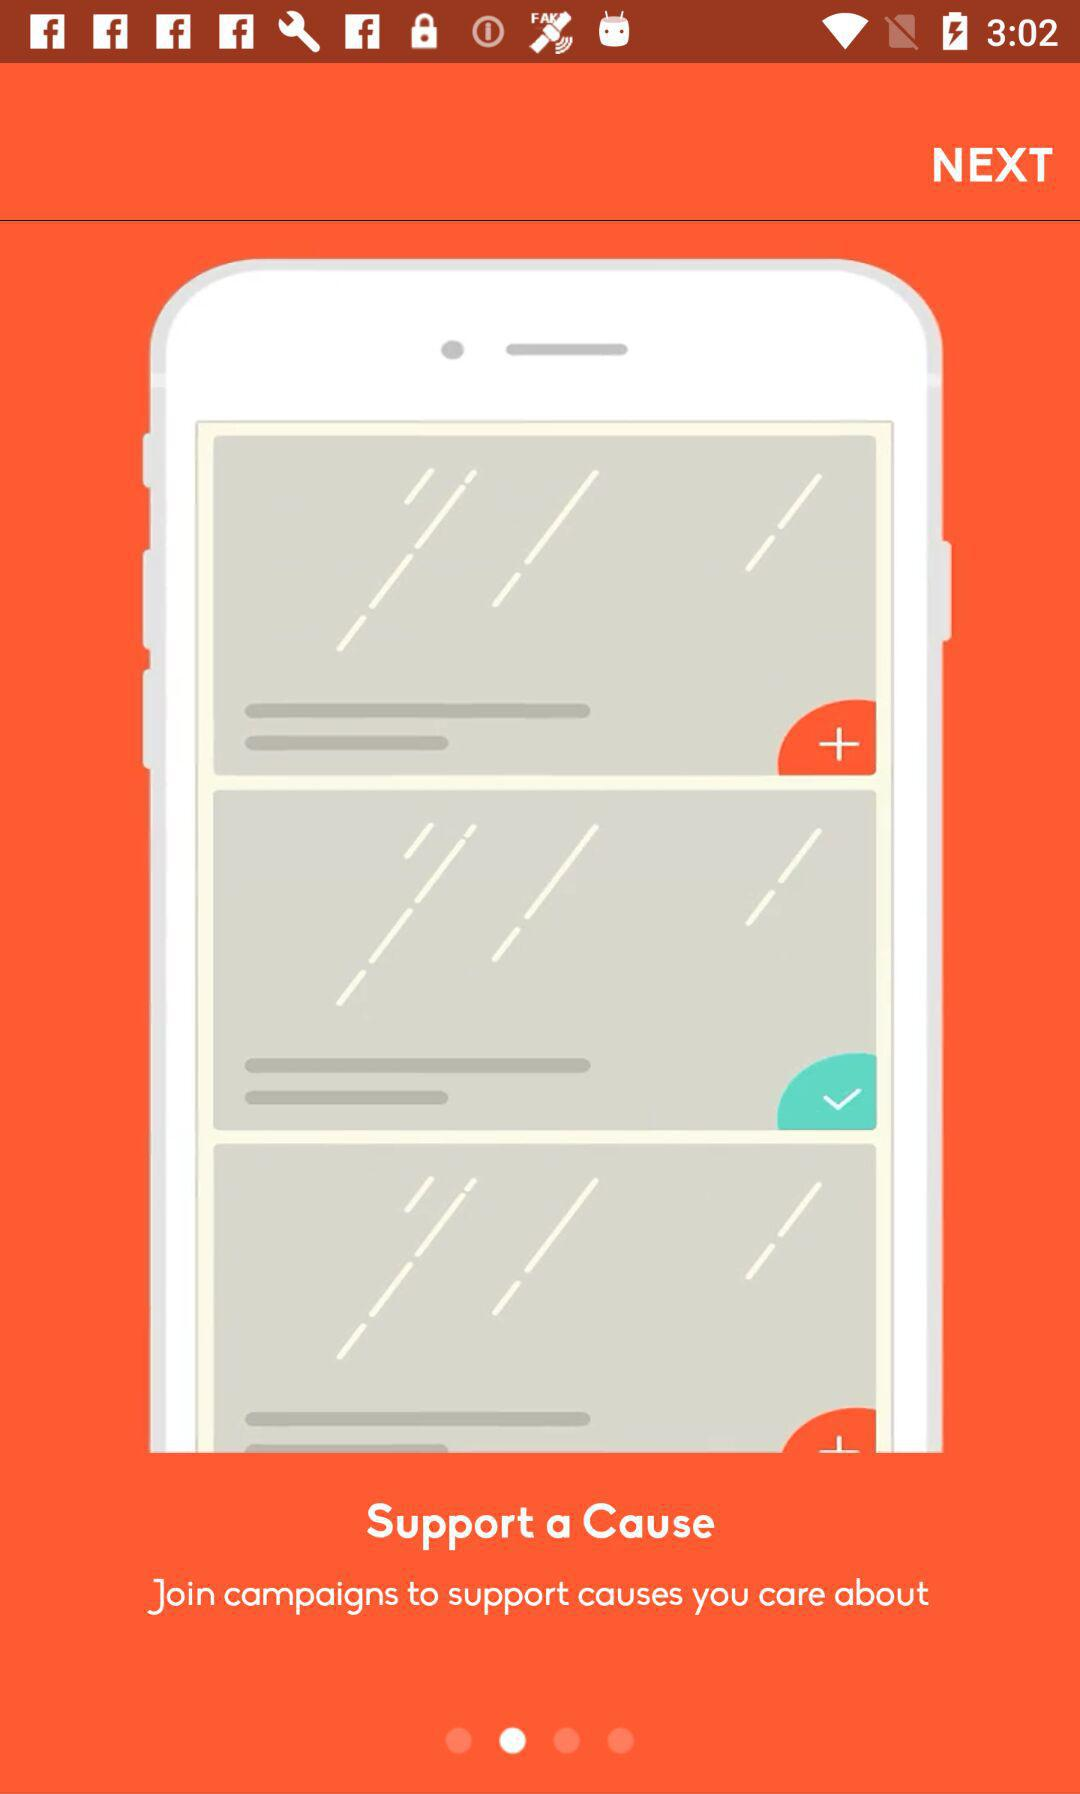Image: (142, 258, 952, 1453)
PageIndicator: (443, 1725, 635, 1757)
Text: (147, 1577, 930, 1617), (366, 1501, 715, 1551), (931, 147, 1053, 185)
UpperTaskBar: (1, 1, 1080, 64)
